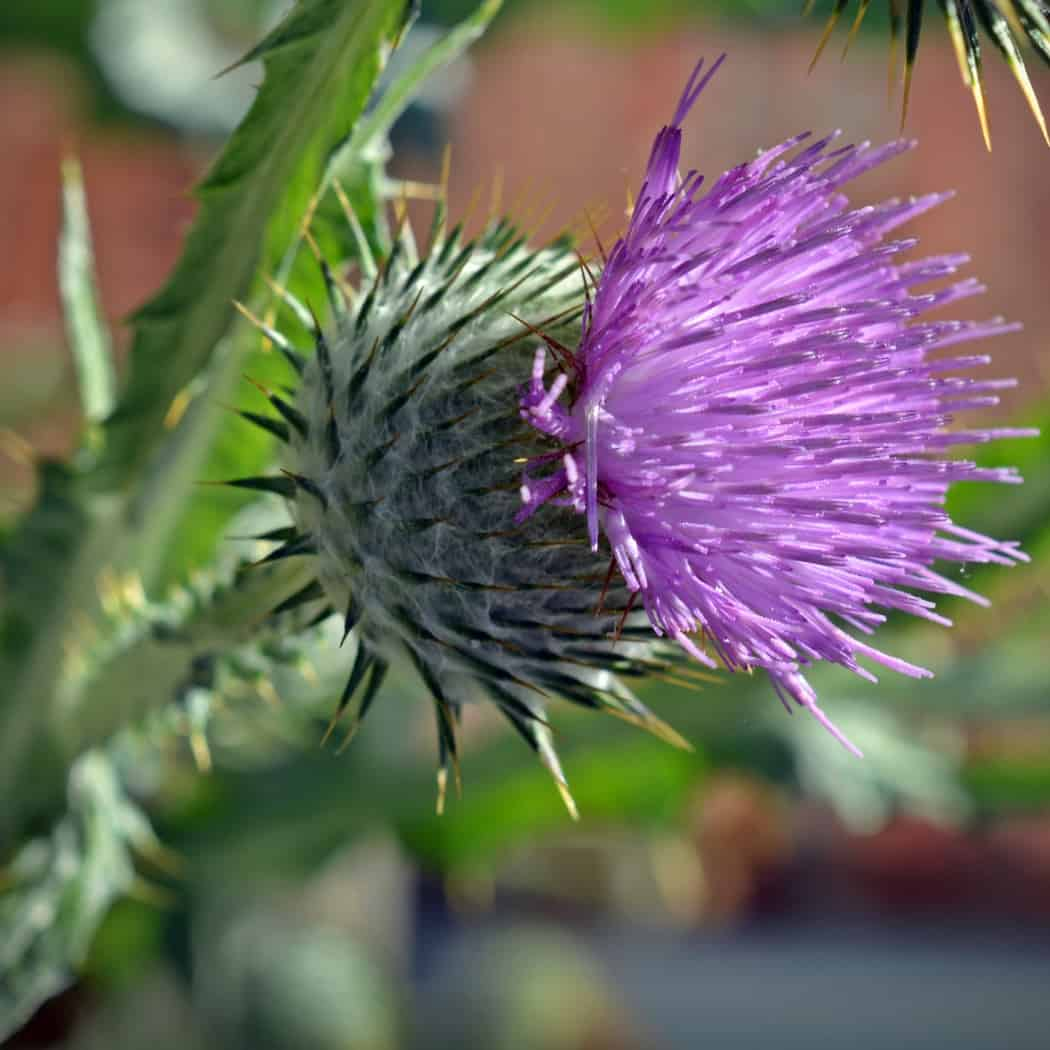thistle: (195, 116, 1035, 744)
